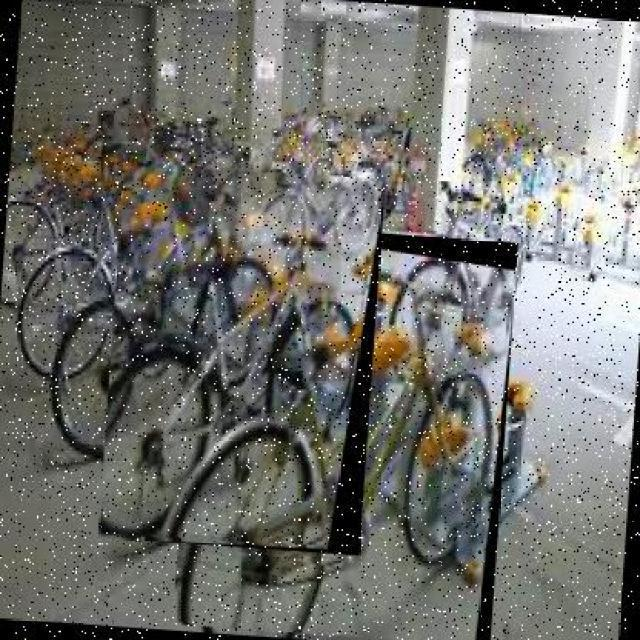bicycle: (174, 221, 523, 640), (99, 162, 388, 558)
